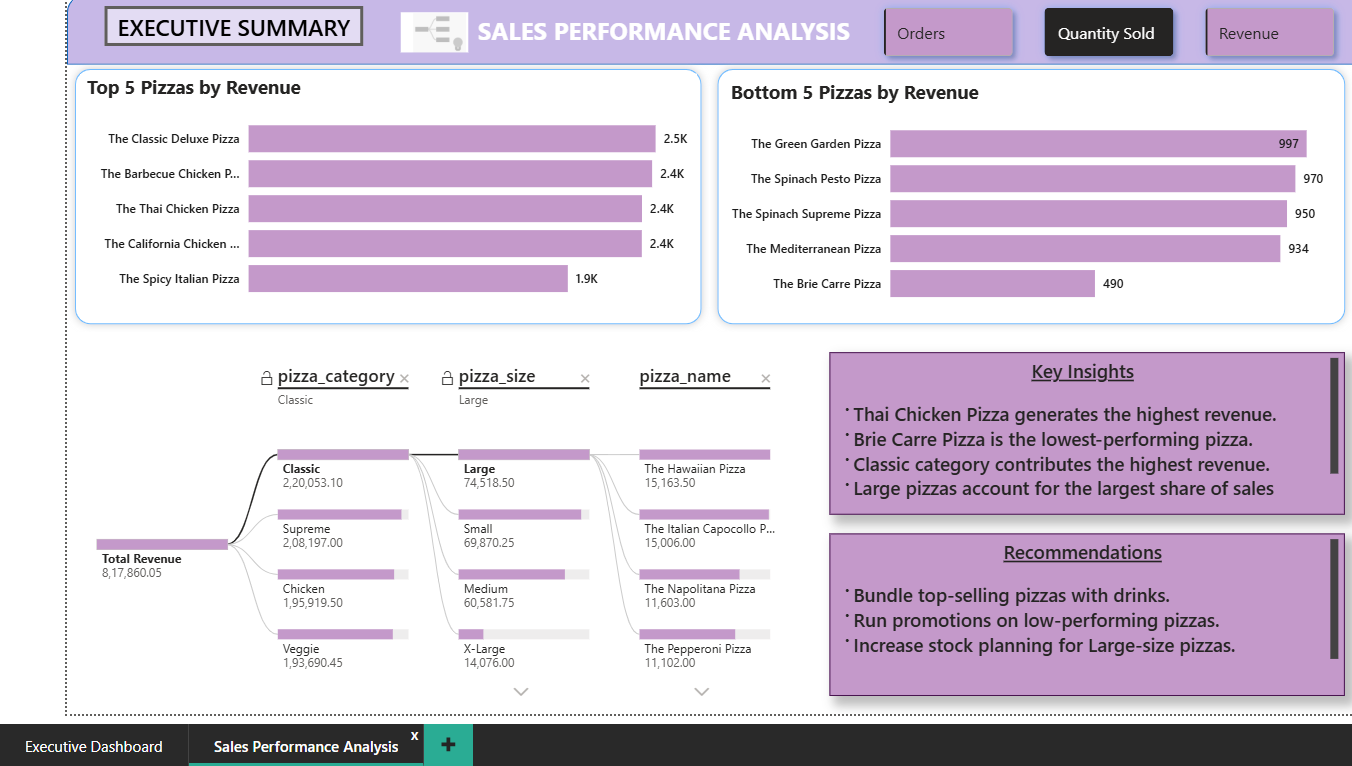

What the dashboard file says about the page in this screenshot:
{"tool":"powerbi","page":{"name":"Sales Performance Analysis","canvas":[1280,720],"ordinal":1},"visuals":[{"type":"decompositionTreeVisual","fields":{"Analyze":["pizza_db pizza_sales.Total Revenue"],"ExplainBy":["pizza_db pizza_sales.pizza_category","pizza_db pizza_sales.pizza_size","pizza_db pizza_sales.pizza_name"]},"box":[0,359.5,758.8,360.7],"z":0},{"type":"shape","box":[0,3.7,1500.2,69.7],"z":1000},{"type":"textbox","box":[379.4,18.7,429.2,46],"z":2000},{"type":"image","box":[332.1,10,67.2,62.2],"z":3000},{"type":"shape","box":[0,69.7,639.4,269.9],"z":4000},{"type":"shape","box":[639.4,69.7,640.6,269.9],"z":5000},{"type":"clusteredBarChart","title":"Top 5 Pizzas by Revenue","fields":{"Category":["pizza_db pizza_sales.pizza_name"],"Y":["Metric Selector.Selected Metric"]},"box":[14.9,82.1,612,237.6],"z":6000},{"type":"clusteredBarChart","title":"Bottom 5 Pizzas by Revenue","fields":{"Category":["pizza_db pizza_sales.pizza_name"],"Y":["Metric Selector.Selected Metric"]},"box":[655.6,87.1,609.5,237.6],"z":7000},{"type":"advancedSlicerVisual","fields":{"Values":["Metric Selector.Metric"]},"box":[796.1,0,483.9,82.1],"z":8000},{"type":"textbox","box":[758.8,359.5,512.5,161.7],"z":9000},{"type":"textbox","box":[758.8,539.9,512.5,161.7],"z":10000},{"type":"actionButton","box":[37.3,14.9,257.5,39.8],"z":10001}]}

Visuals, with their boxes on the page's 1280x720 design canvas (x1, y1, x2, y2). These are canvas units, not pixel positions in the 1352x766 screenshot, which may show the page scaled, cropped or inside an application window:
decompositionTreeVisual - pizza_db pizza_sales.Total Revenue x pizza_db pizza_sales.pizza_category: x1=0, y1=360, x2=759, y2=720
shape: x1=0, y1=4, x2=1500, y2=73
textbox: x1=379, y1=19, x2=809, y2=65
image: x1=332, y1=10, x2=399, y2=72
shape: x1=0, y1=70, x2=639, y2=340
shape: x1=639, y1=70, x2=1280, y2=340
"Top 5 Pizzas by Revenue" clusteredBarChart: x1=15, y1=82, x2=627, y2=320
"Bottom 5 Pizzas by Revenue" clusteredBarChart: x1=656, y1=87, x2=1265, y2=325
advancedSlicerVisual - Metric Selector.Metric: x1=796, y1=0, x2=1280, y2=82
textbox: x1=759, y1=360, x2=1271, y2=521
textbox: x1=759, y1=540, x2=1271, y2=702
actionButton: x1=37, y1=15, x2=295, y2=55
